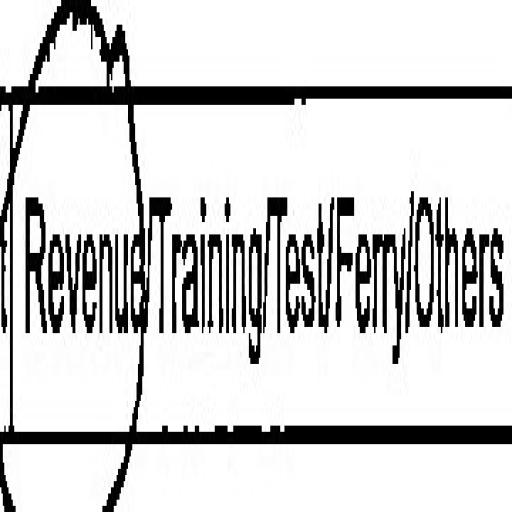check: (7, 0, 150, 512)
